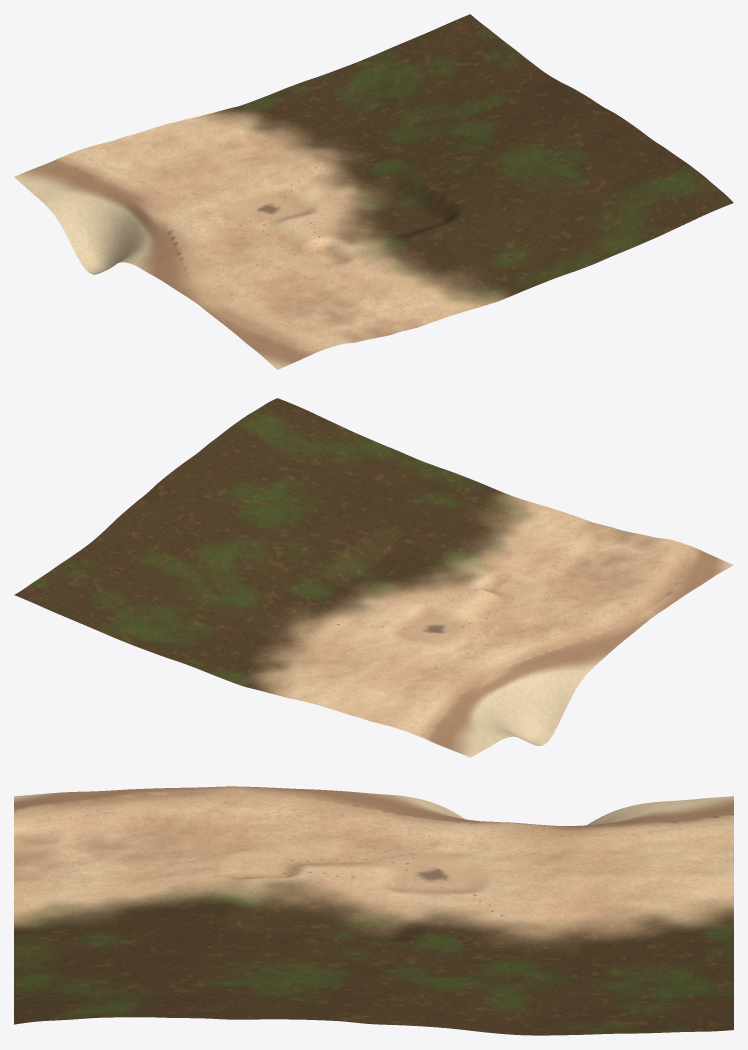
Rendered from IO_Terrain_Beach_Test_30m.glb.
3 renders of one model, top to bottom at view 1: azimuth 30°, elevation 25°; view 2: azimuth 150°, elevation 25°; view 3: azimuth 270°, elevation 25°, orthographic. The views are drawn at different scales.
Visible parts, largest first — view 1: IO_Terrain_Beach_Test_30m; view 2: IO_Terrain_Beach_Test_30m; view 3: IO_Terrain_Beach_Test_30m.
Part boxes in pixels (x1,y1,x2,y2): IO_Terrain_Beach_Test_30m: (14, 14, 733, 369); IO_Terrain_Beach_Test_30m: (14, 398, 733, 757); IO_Terrain_Beach_Test_30m: (14, 786, 733, 1035).
Size of the model in its own units: 30 by 6.39 by 30.
Materials: 1 (1 with a texture image).
